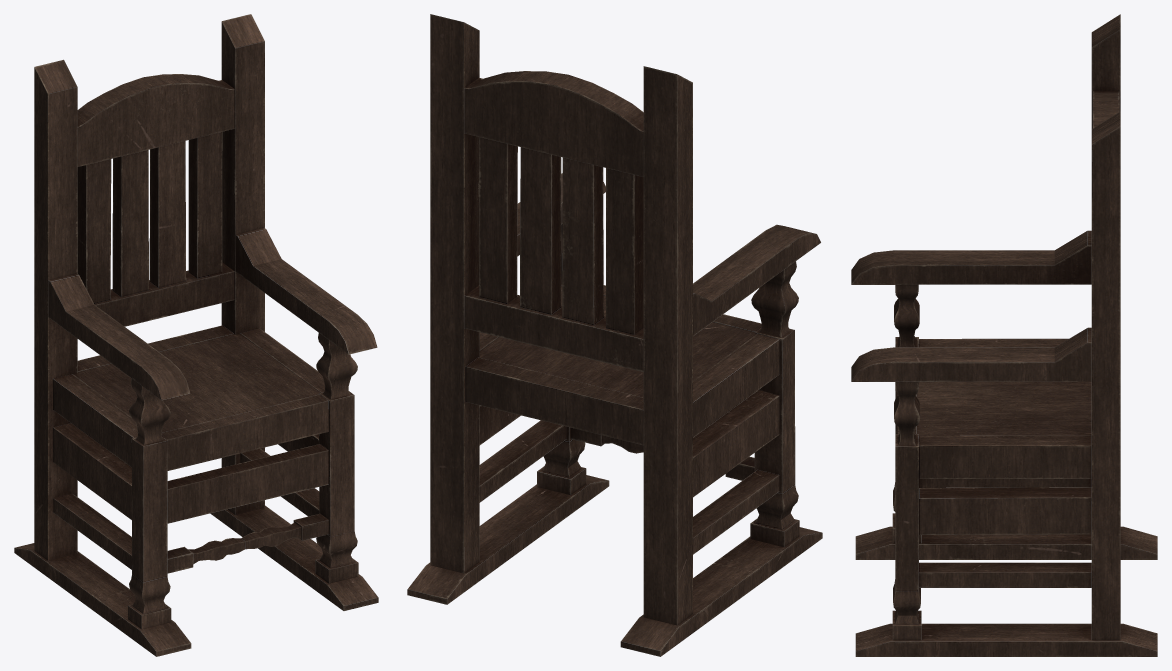
The model's file is player-chair.glb.
3 views of the same model, side by side, from view 1: azimuth 30°, elevation 25°; view 2: azimuth 150°, elevation 25°; view 3: azimuth 270°, elevation 25° (orthographic). The views are drawn at different scales.
Visible parts, largest first — view 1: Chair; view 2: Chair; view 3: Chair.
Part boxes in pixels (<box>): Chair: <box>14,14,378,656</box>; Chair: <box>407,14,822,656</box>; Chair: <box>851,14,1157,656</box>.
Bounding box in the file's own units: 0.5897 × 1.26 × 0.6626.
1 material, 1 textured.
